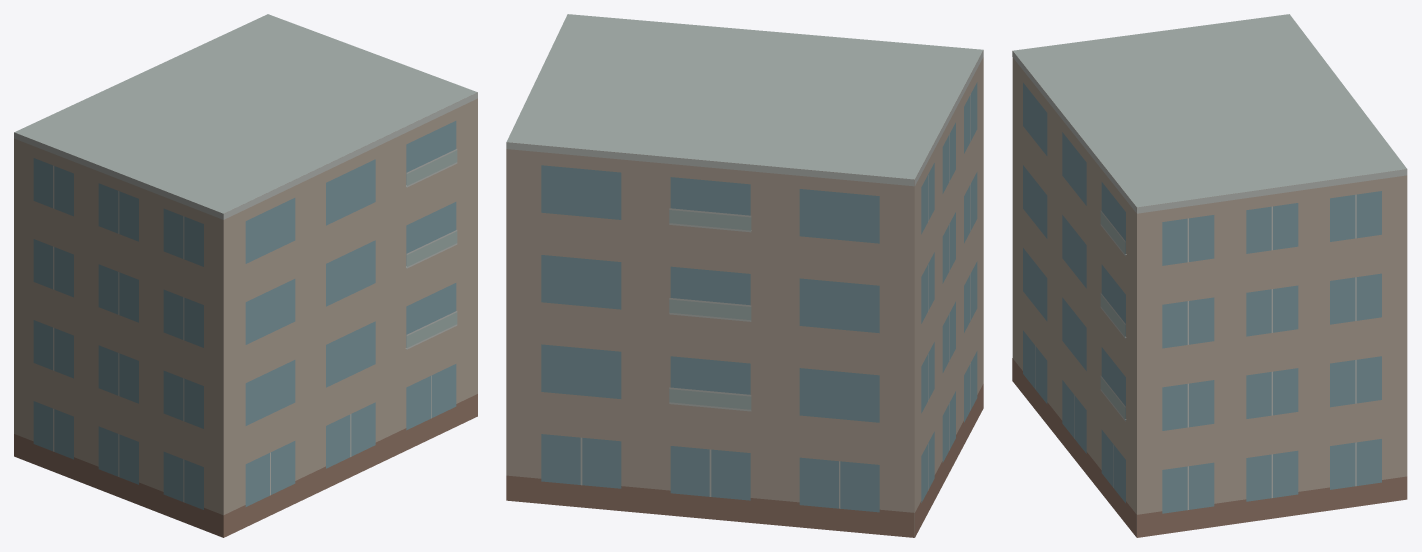
Rendered from survey-upis-32727501.glb.
3 renders of one model, left to right at view 1: azimuth 30°, elevation 25°; view 2: azimuth 150°, elevation 25°; view 3: azimuth 270°, elevation 25°, orthographic. The views are drawn at different scales.
Parts seen in each view (by area): view 1: survey-upis-32727501.tmp; view 2: survey-upis-32727501.tmp; view 3: survey-upis-32727501.tmp.
Part boxes in pixels (x1,y1,x2,y2): survey-upis-32727501.tmp: [14, 14, 477, 537]; survey-upis-32727501.tmp: [506, 14, 983, 537]; survey-upis-32727501.tmp: [1012, 14, 1407, 537].
Size of the model in its own units: 16.08 by 12.8 by 13.87.
